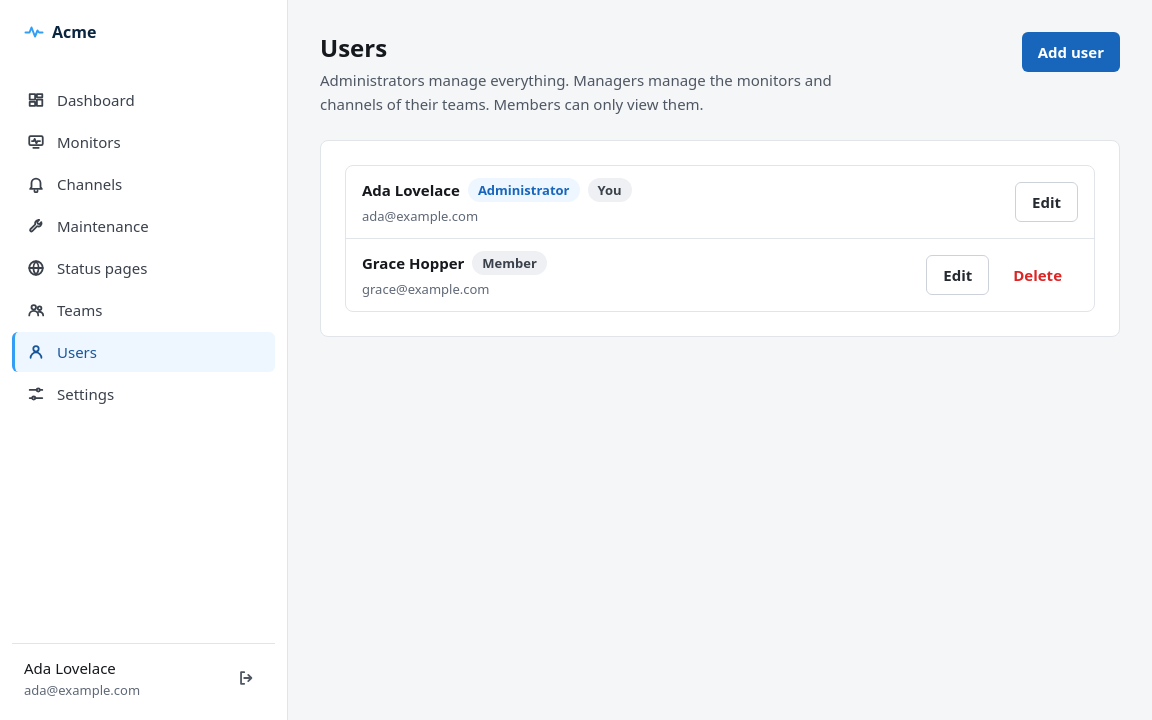
it: UsersPage › deletes a user after confirmation
This screenshot has width=1152, height=720.
Step 1. Click the button with aria-label "Delete: Grace Hopper" → (1038, 275), box left=997, top=255, right=1078, bottom=295
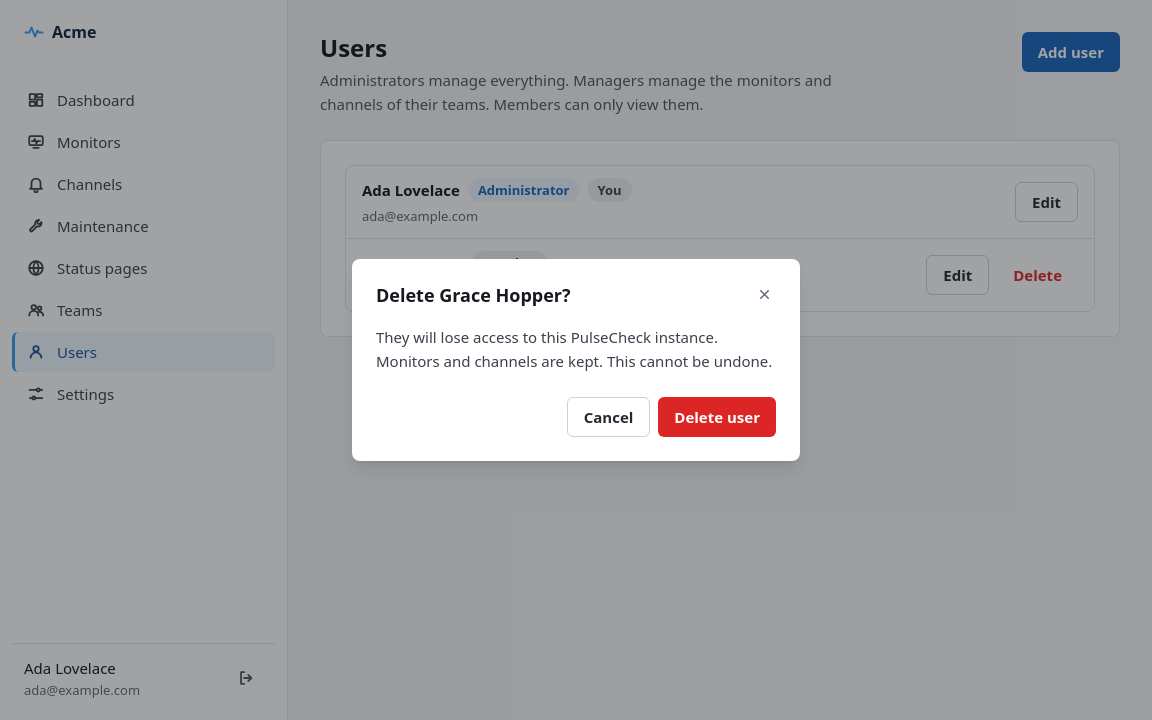
Step 2. Click the button "Delete user" → (717, 417), box left=658, top=397, right=776, bottom=437
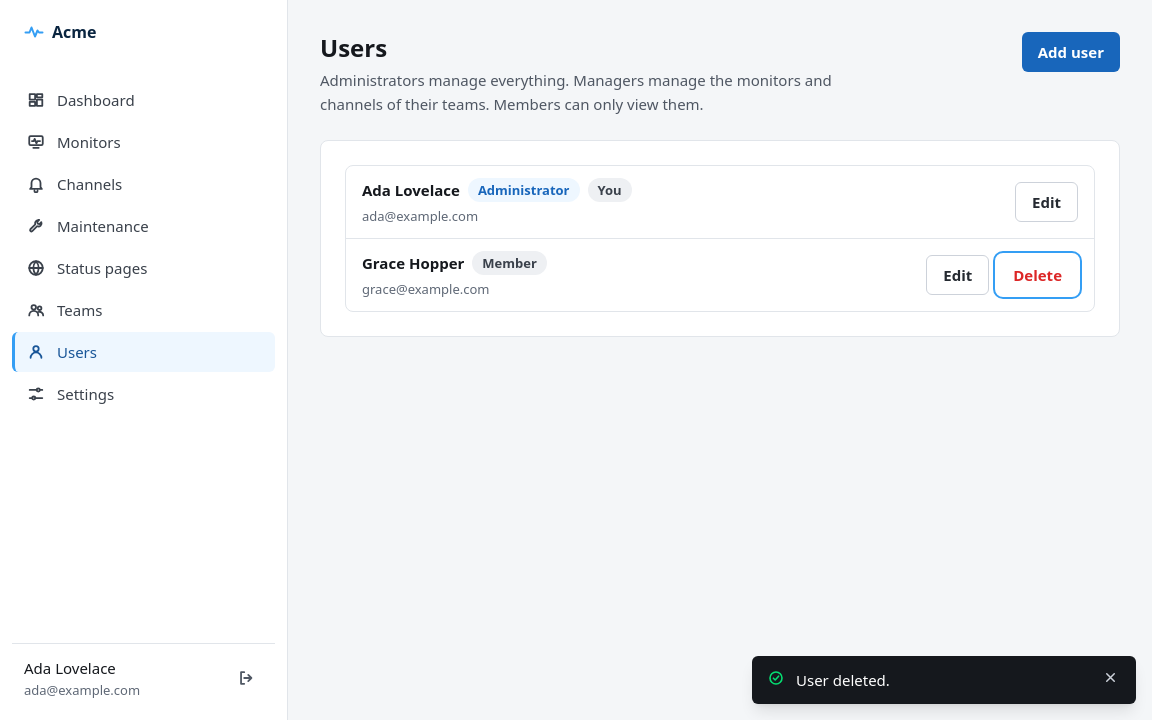
Result: the text "User deleted." is shown at left=796, top=670, right=890, bottom=690
